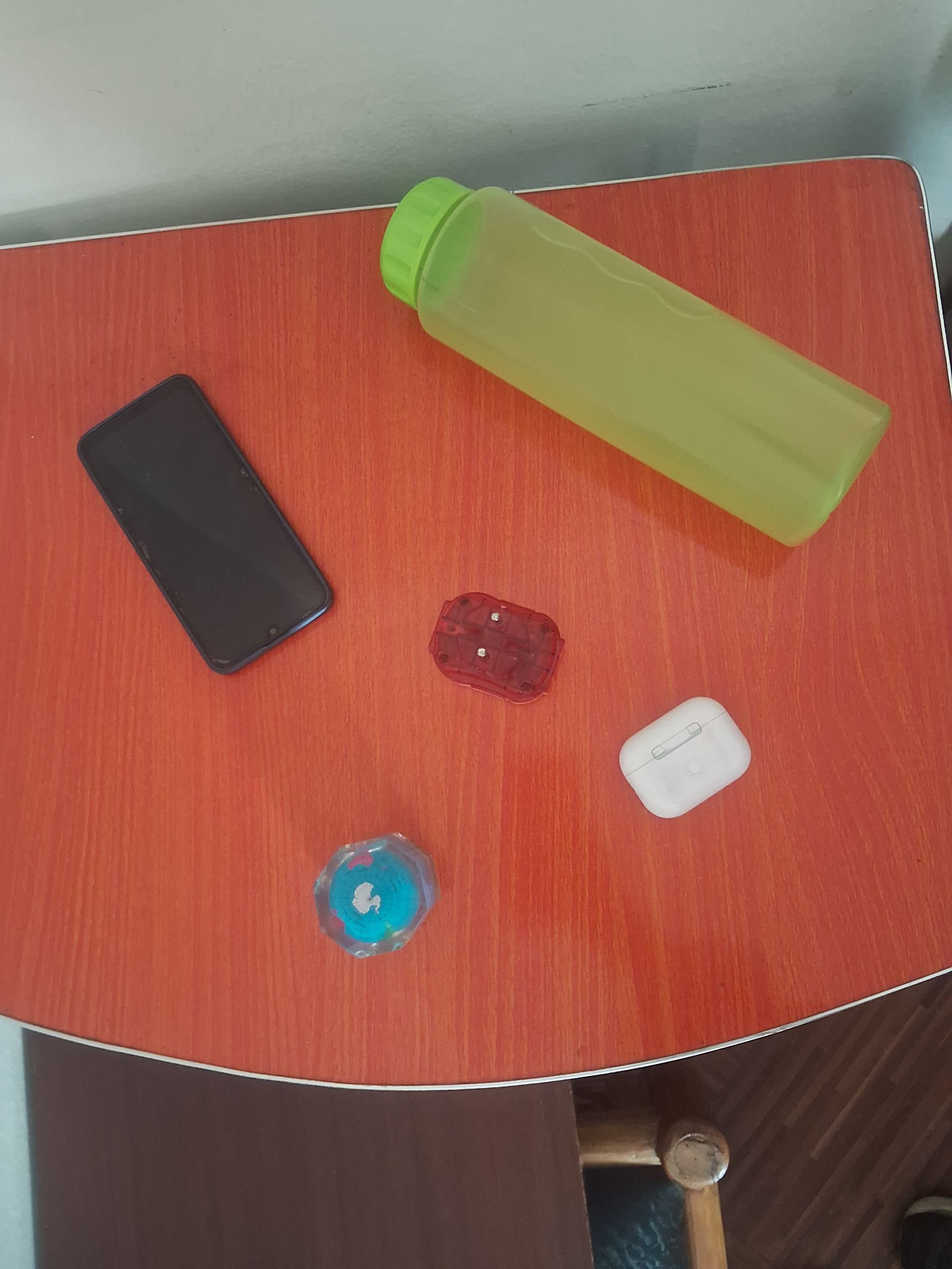Air_pod: (616, 693, 753, 819)
Multi_adapter: (426, 591, 567, 709)
Smart_phone: (75, 372, 335, 677)
Water_bottle: (378, 175, 898, 551)
world_globe: (310, 830, 444, 962)
